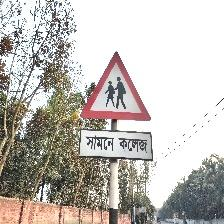College-in-front: (73, 42, 179, 177)
